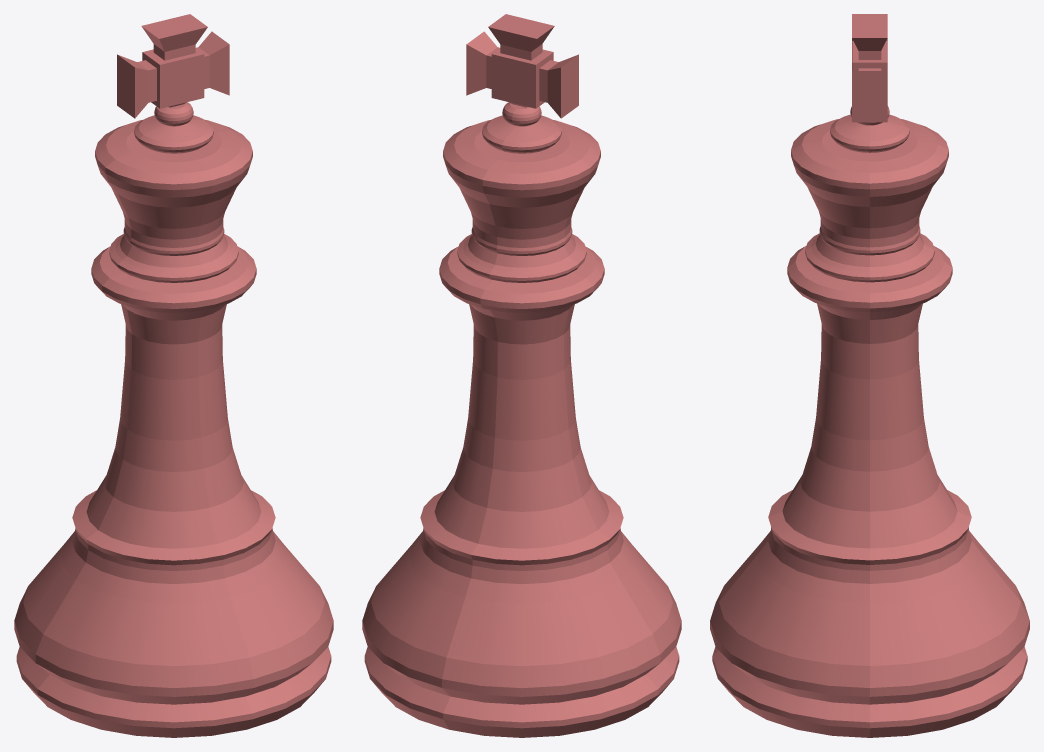
Rendered from king.obj.
The picture shows the model from 3 angles, left to right: view 1: azimuth 30°, elevation 25°; view 2: azimuth 150°, elevation 25°; view 3: azimuth 270°, elevation 25°; orthographic projection.
Parts seen in each view (by area): view 1: Mesh1 Model, Mesh2 Model; view 2: Mesh1 Model, Mesh2 Model; view 3: Mesh1 Model, Mesh2 Model.
Boxes of the visible parts, x1,y1,x2,y2 form: Mesh1 Model: [14, 102, 333, 737]; Mesh2 Model: [117, 14, 229, 118]; Mesh1 Model: [362, 102, 681, 737]; Mesh2 Model: [466, 14, 578, 118]; Mesh1 Model: [710, 106, 1029, 737]; Mesh2 Model: [852, 14, 887, 122].
Bounding box in the file's own units: 0.888 × 1.99 × 0.888.
